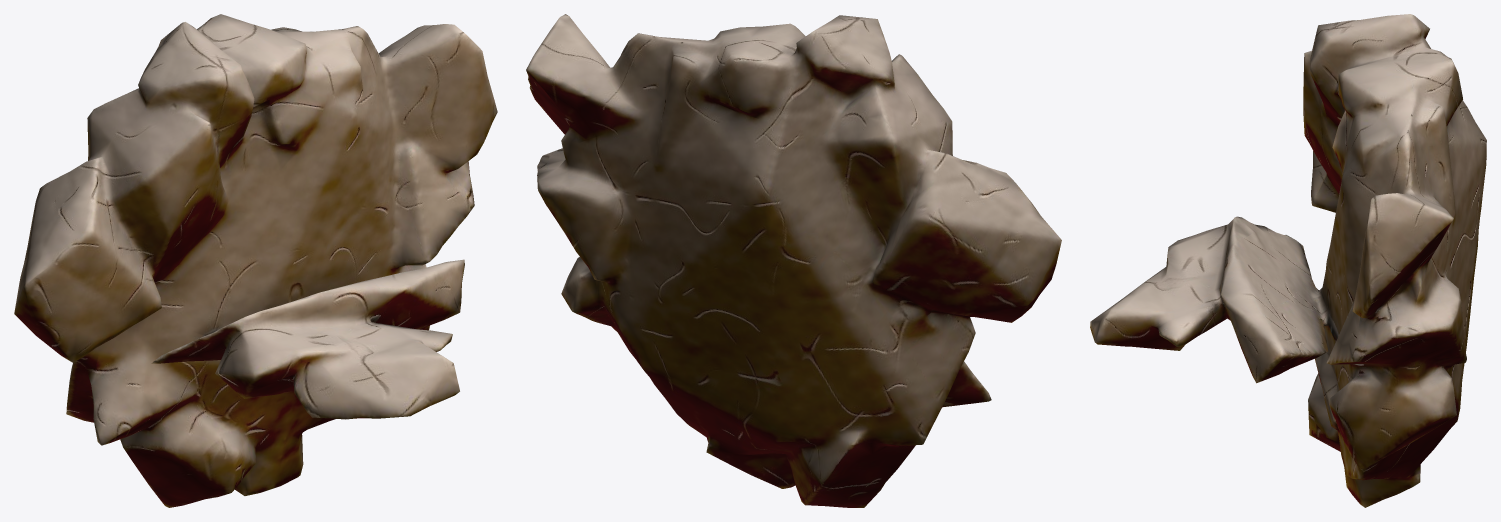
File: shelf_d.glb
3 renders of one model, left to right at view 1: azimuth 30°, elevation 25°; view 2: azimuth 150°, elevation 25°; view 3: azimuth 270°, elevation 25°, orthographic. The views are drawn at different scales.
Visible parts, largest first — view 1: rock; view 2: rock; view 3: rock.
Boxes of the visible parts, x1,y1,x2,y2 form: rock: [14, 14, 497, 507]; rock: [526, 14, 1061, 507]; rock: [1090, 14, 1486, 507].
Size of the model in its own units: 0.8229 by 0.7452 by 0.5852.
Materials: 1 (1 with a texture image).
